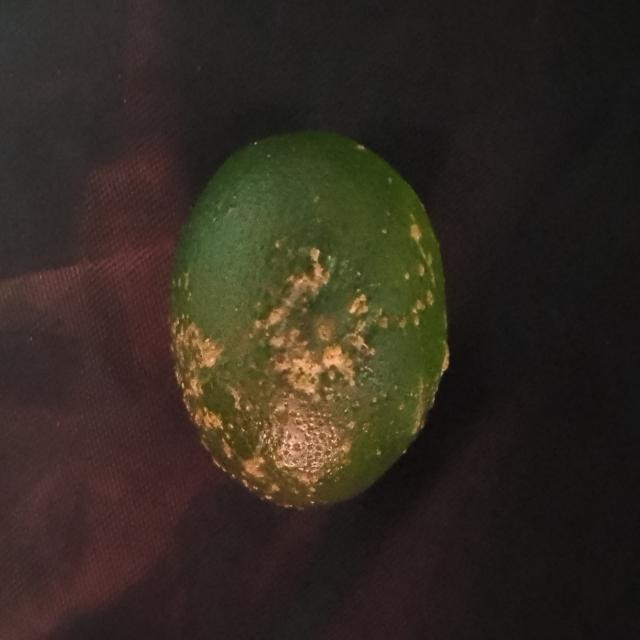scab: (160, 119, 462, 500)
